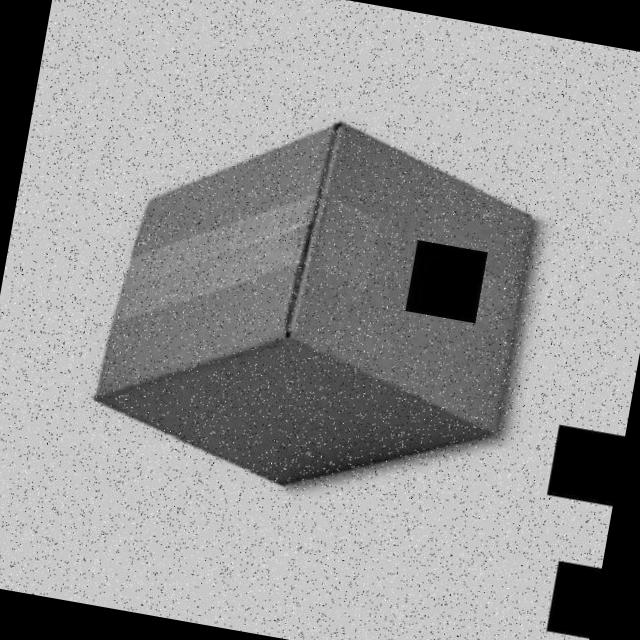box: (67, 77, 556, 528)
